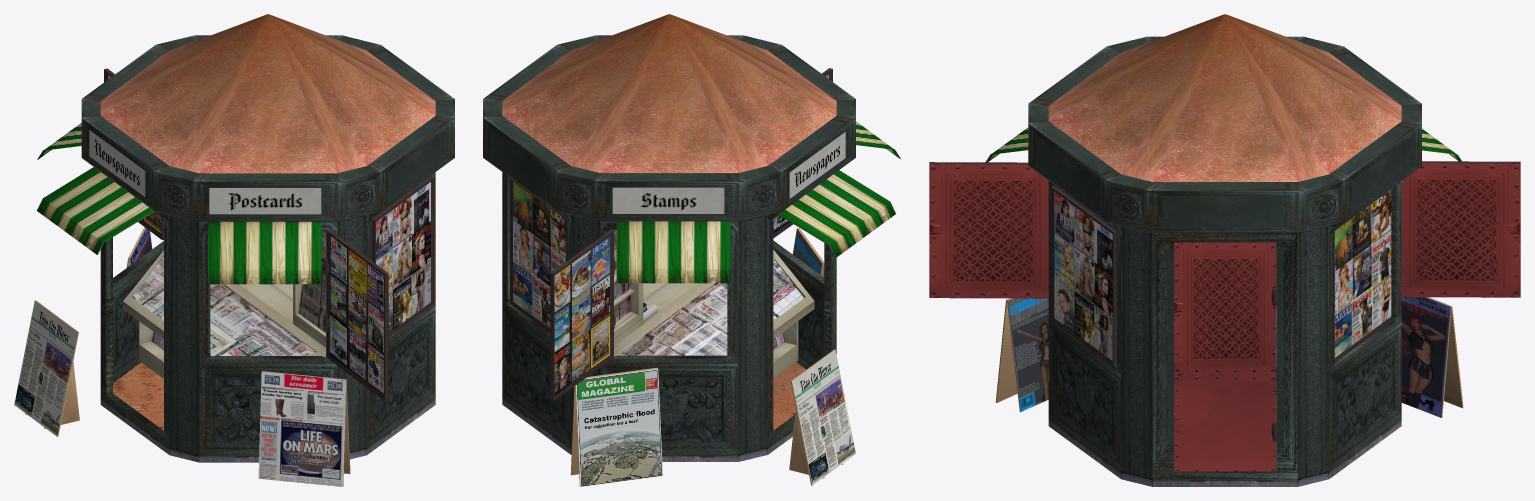
Rendered from NewsStand.obj.
3 views of the same model, side by side, from view 1: azimuth 30°, elevation 25°; view 2: azimuth 150°, elevation 25°; view 3: azimuth 270°, elevation 25° (orthographic). The views are drawn at different scales.
Visible parts, largest first — view 1: Figure_1; view 2: Figure_1; view 3: Figure_1.
Boxes of the visible parts, <box> form: Figure_1: <box>14,14,454,486</box>; Figure_1: <box>483,14,900,486</box>; Figure_1: <box>929,14,1520,486</box>.
Size of the model in its own units: 1.28 by 1.35 by 1.78.
38 materials, 38 textured.
